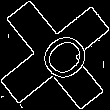O_SW: (21, 22, 89, 88)
